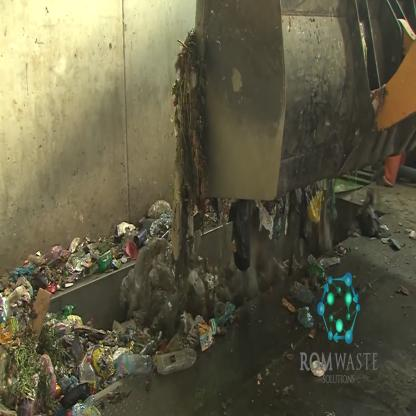Glass Bottle: (155, 346, 199, 374), (117, 352, 153, 377), (80, 358, 96, 399), (308, 260, 330, 286), (297, 305, 314, 331), (96, 254, 115, 274), (67, 401, 86, 416), (88, 317, 94, 329)
